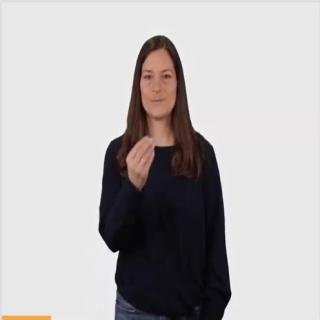Food: (97, 31, 233, 319)
